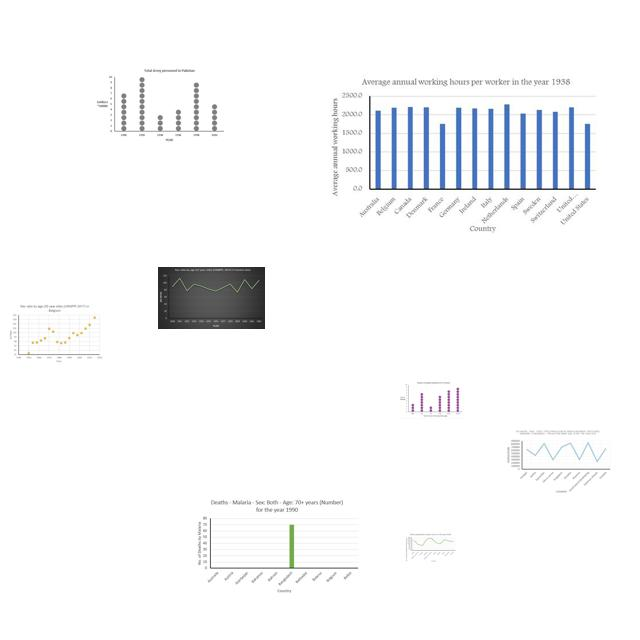Graph: (330, 75, 601, 234), (196, 496, 360, 595), (92, 66, 227, 145), (504, 429, 612, 494), (158, 267, 265, 329), (7, 303, 104, 365), (398, 380, 464, 419), (405, 533, 456, 562)
